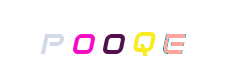E: (121, 0, 201, 80)
O: (76, 0, 156, 80), (77, 0, 157, 80)
P: (44, 0, 124, 80)
Q: (104, 0, 184, 80)
